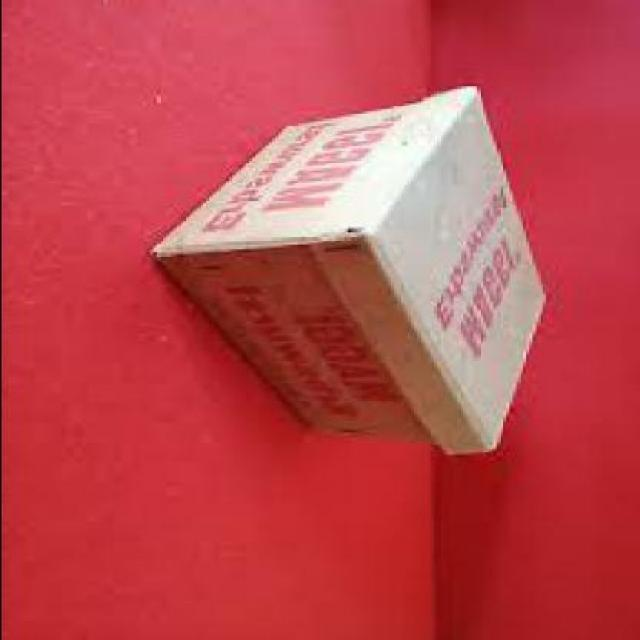box: (148, 90, 548, 459)
